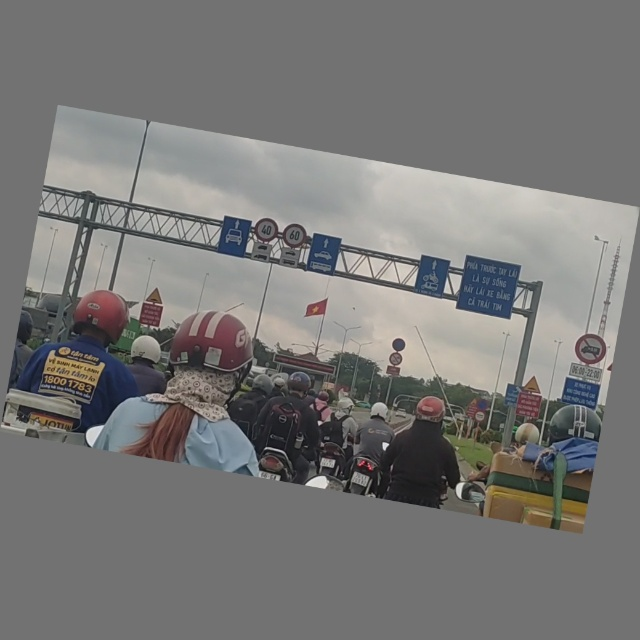Camera: (502, 383, 522, 410)
P.106a*Xe tai: (573, 331, 609, 367)
P.111: (388, 353, 403, 368)
P.127*40: (254, 217, 281, 244)
P.127*60: (281, 222, 308, 250)
P.129: (473, 412, 486, 424)
P.130: (392, 338, 407, 353)
P.131a: (477, 399, 488, 412)
W.221b: (143, 286, 168, 306), (522, 375, 544, 396), (468, 398, 478, 409)
